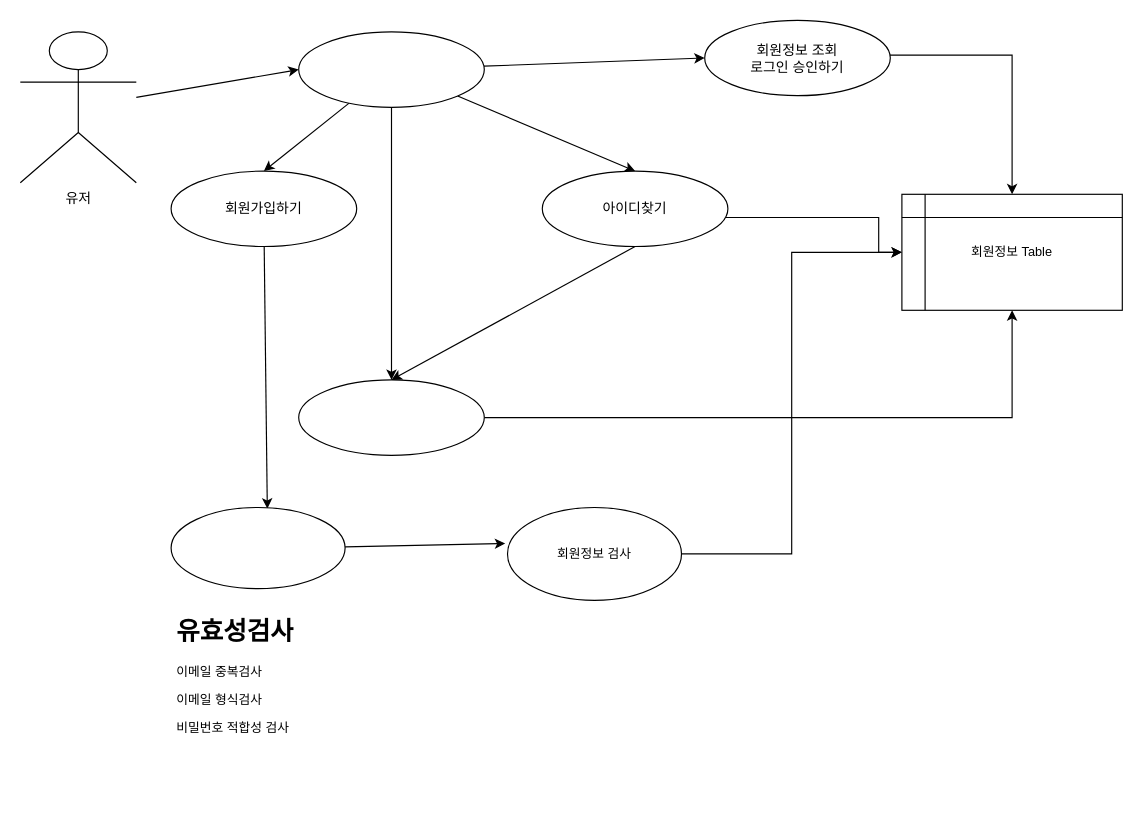
The diagram is 1143 pixels wide and 818 high, and some of its shapes have lost their labels. The centre of each missing label's shape, as x and y in pixels:
"로그인하기" goes at pixel 391 69.
"비밀번호찾기" goes at pixel 391 417.
"유효성검사하기" goes at pixel 257 547.
